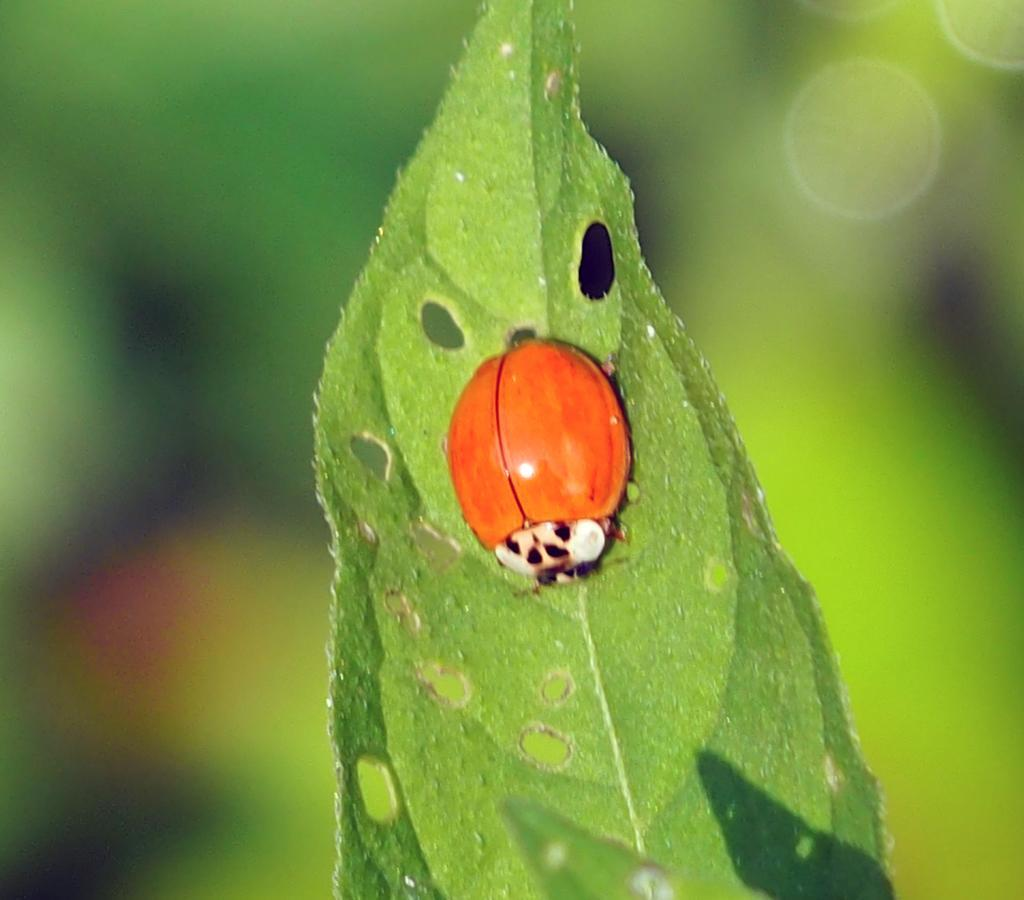ladybug: (444, 334, 639, 604)
